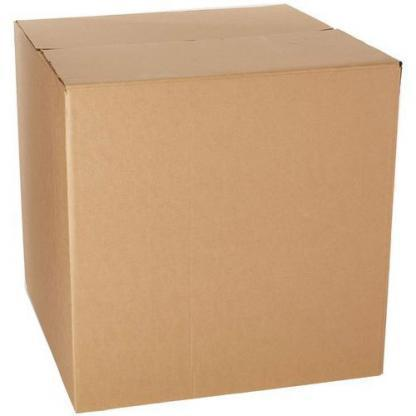box: (14, 3, 404, 412)
